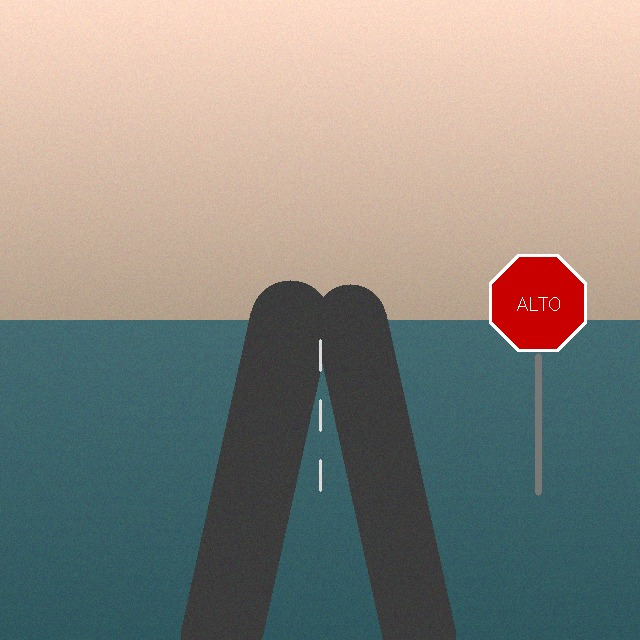alto: (485, 250, 591, 356)
